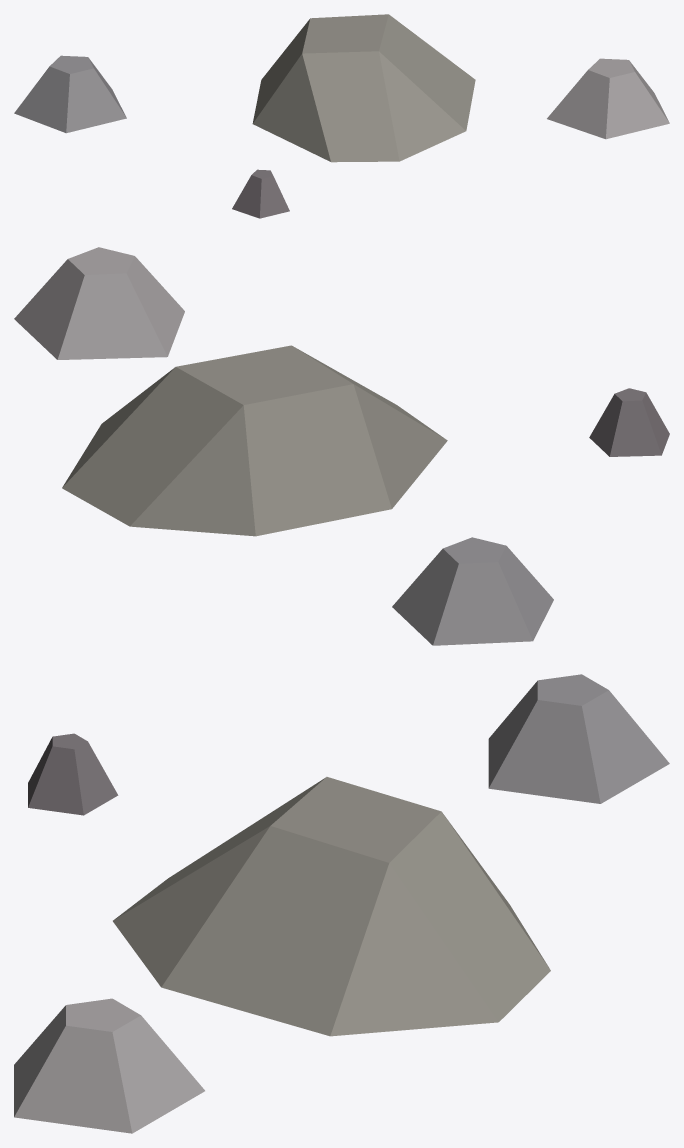
File: Rocks_Round_s_05.fbx
The picture shows the model from 3 angles, top to bottom: view 1: azimuth 30°, elevation 25°; view 2: azimuth 150°, elevation 25°; view 3: azimuth 270°, elevation 25°; orthographic projection. The views are drawn at different scales.
Visible parts, largest first — view 1: Rocks_Round_s_05; view 2: Rocks_Round_s_05; view 3: Rocks_Round_s_05.
Part boxes in pixels (left/top/right/bottom): Rocks_Round_s_05: left=14, top=14, right=669, bottom=218; Rocks_Round_s_05: left=14, top=247, right=669, bottom=645; Rocks_Round_s_05: left=14, top=674, right=669, bottom=1133.
Size of the model in its own units: 0.4872 by 0.067 by 0.329.
